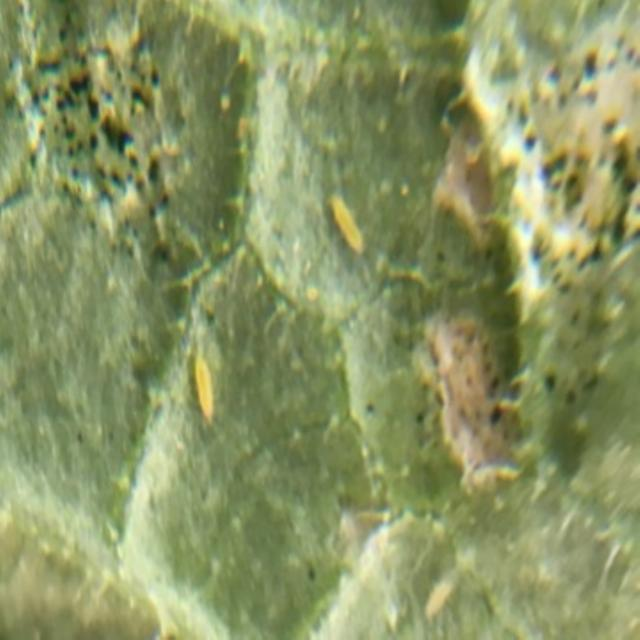Thrip-Larva-: (326, 187, 369, 262), (188, 352, 218, 428)
